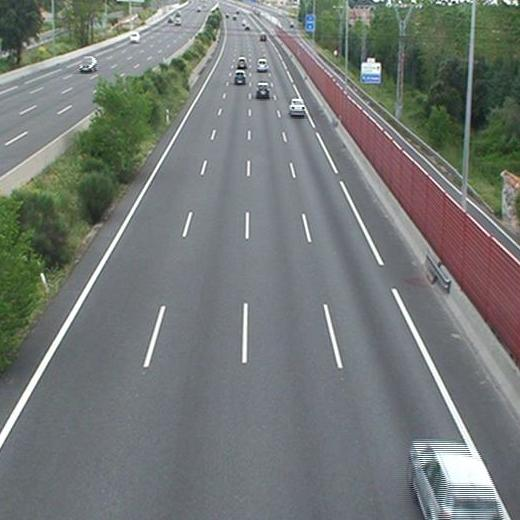car: (411, 442, 499, 520), (288, 99, 305, 115), (256, 82, 269, 97), (256, 58, 268, 71), (234, 71, 245, 83), (236, 57, 247, 69)
